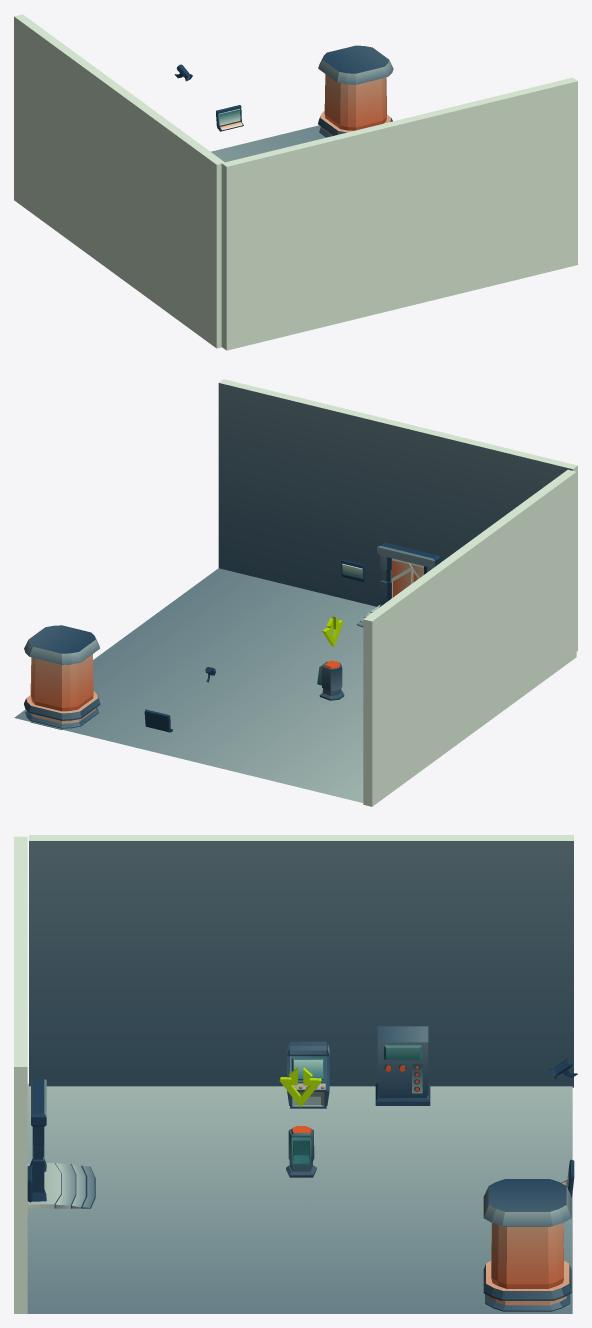
Rendered from Lobby.fbx.
3 renders of one model, top to bottom at view 1: azimuth 30°, elevation 25°; view 2: azimuth 150°, elevation 25°; view 3: azimuth 270°, elevation 25°, orthographic. The views are drawn at different scales.
Visible parts, largest first — view 1: Parede_Frontal, Parede_Frontal.001, Ambiente_1, Suelo, Computadora; view 2: Parede_Frontal, Suelo, Parede_Frontal.001, Ambiente_1, Marco_Puerta, Cesto, Puerta_1; view 3: Parede_Frontal.001, Suelo, Ambiente_1, Parede_Frontal, Maquina_1, Base_Puerta, Maquina_2, Marco_Puerta, Cesto, Flecha.
Boxes of the visible parts, x1,y1,x2,y2 form: Parede_Frontal: (221, 77, 577, 350); Parede_Frontal.001: (14, 14, 224, 348); Ambiente_1: (318, 45, 393, 137); Suelo: (211, 125, 325, 162); Computadora: (216, 105, 243, 131); Parede_Frontal: (218, 379, 577, 651); Suelo: (14, 568, 376, 802); Parede_Frontal.001: (363, 469, 576, 806); Ambiente_1: (24, 625, 100, 729); Marco_Puerta: (377, 542, 440, 607); Cesto: (317, 660, 344, 700); Puerta_1: (391, 558, 412, 597); Parede_Frontal.001: (29, 835, 573, 1087); Suelo: (27, 1083, 572, 1313); Ambiente_1: (483, 1179, 571, 1311); Parede_Frontal: (14, 836, 27, 1313); Maquina_1: (375, 1026, 430, 1105); Base_Puerta: (27, 1163, 95, 1208); Maquina_2: (287, 1041, 329, 1108); Marco_Puerta: (30, 1079, 46, 1201); Cesto: (286, 1126, 316, 1177); Flecha: (279, 1067, 321, 1107).
Bounding box in the file's own units: 20.25 × 10.14 × 20.7.
